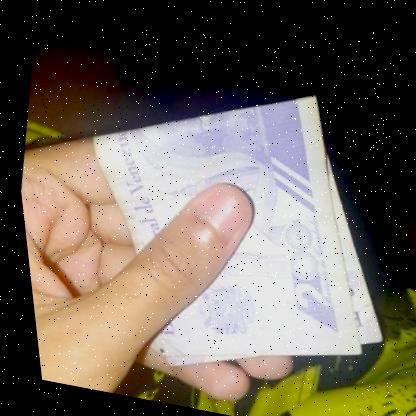ten-back-vef: (30, 50, 411, 416)
